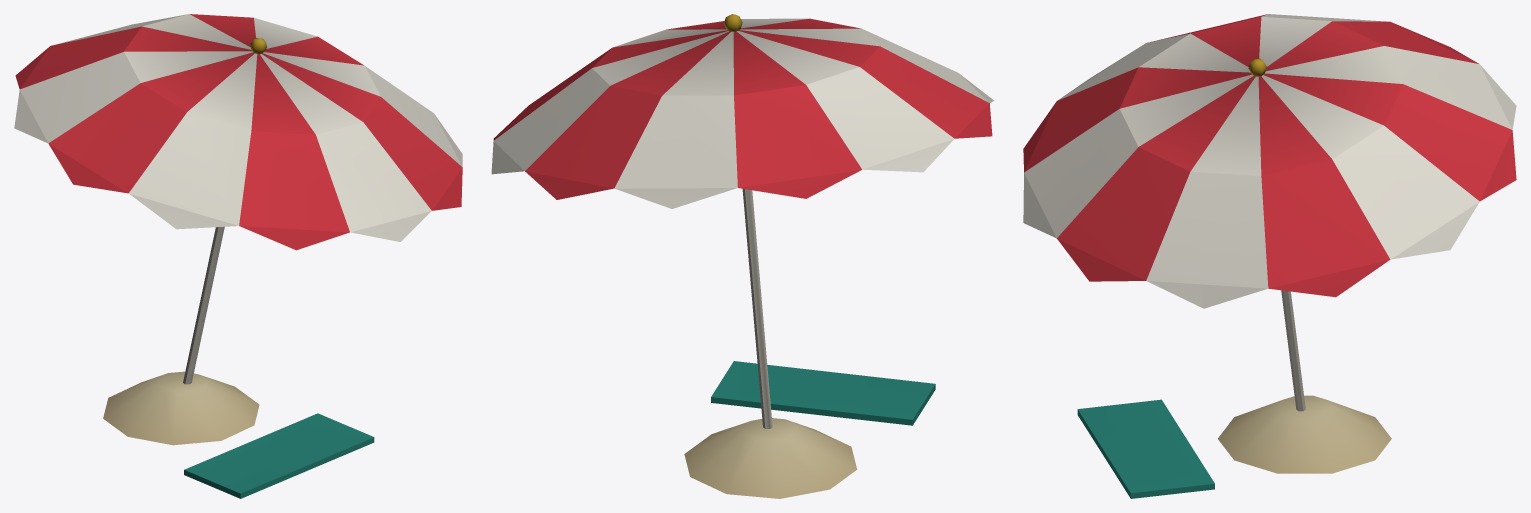
The model's file is sombrilla_playa.glb.
3 renders of one model, left to right at view 1: azimuth 30°, elevation 25°; view 2: azimuth 150°, elevation 25°; view 3: azimuth 270°, elevation 25°, orthographic. The views are drawn at different scales.
Visible parts, largest first — view 1: sombrilla_playa; view 2: sombrilla_playa; view 3: sombrilla_playa.
Part boxes in pixels (<box>): sombrilla_playa: <box>14,14,462,498</box>; sombrilla_playa: <box>491,14,994,498</box>; sombrilla_playa: <box>1023,14,1516,498</box>.
Bounding box in the file's own units: 3.1 × 2.85 × 3.11.
